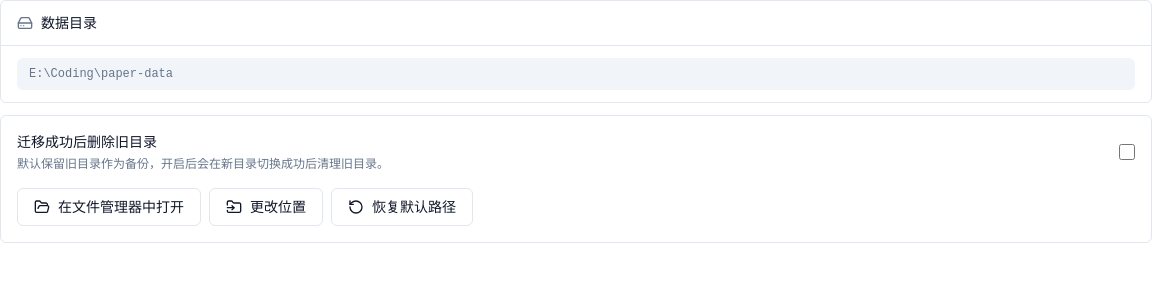
Test: DataDirSection › shows a cleanup warning when old directory deletion fails after relocation
The image size is (1152, 304).
What coordinates should you click on to do the following:
click the checkbox labelled "迁移成功后删除旧目录 默认保留旧目录作为备份，开启后会在新目录切换成功后清理旧目录。"
I would click on:
 (1127, 152)
Its box is 1119,144 -> 1135,160.
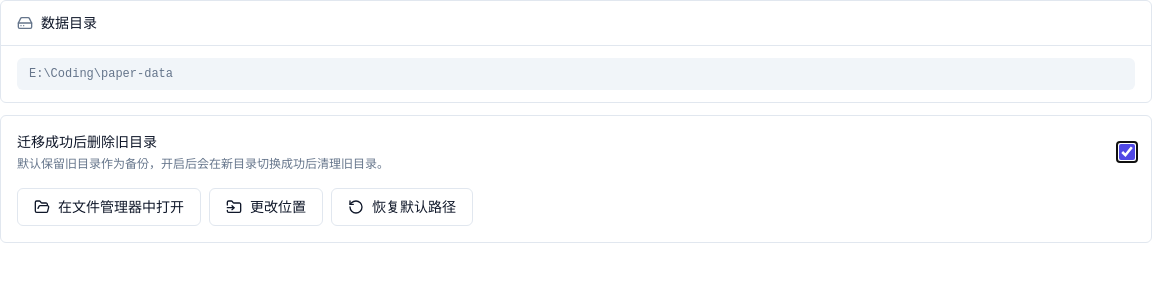
What coordinates should you click on to do the following:
click the button "更改位置"
I would click on:
 (266, 207)
Its box is 209,188 -> 323,226.
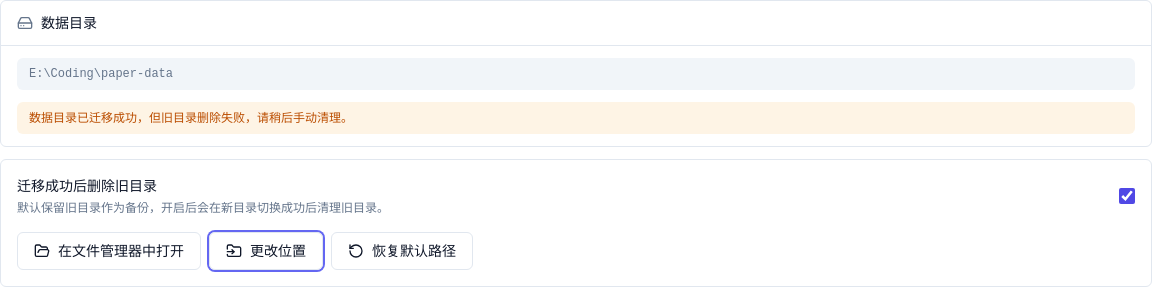
Check: the message shows "旧目录删除失败", box 29,110 -> 353,125
